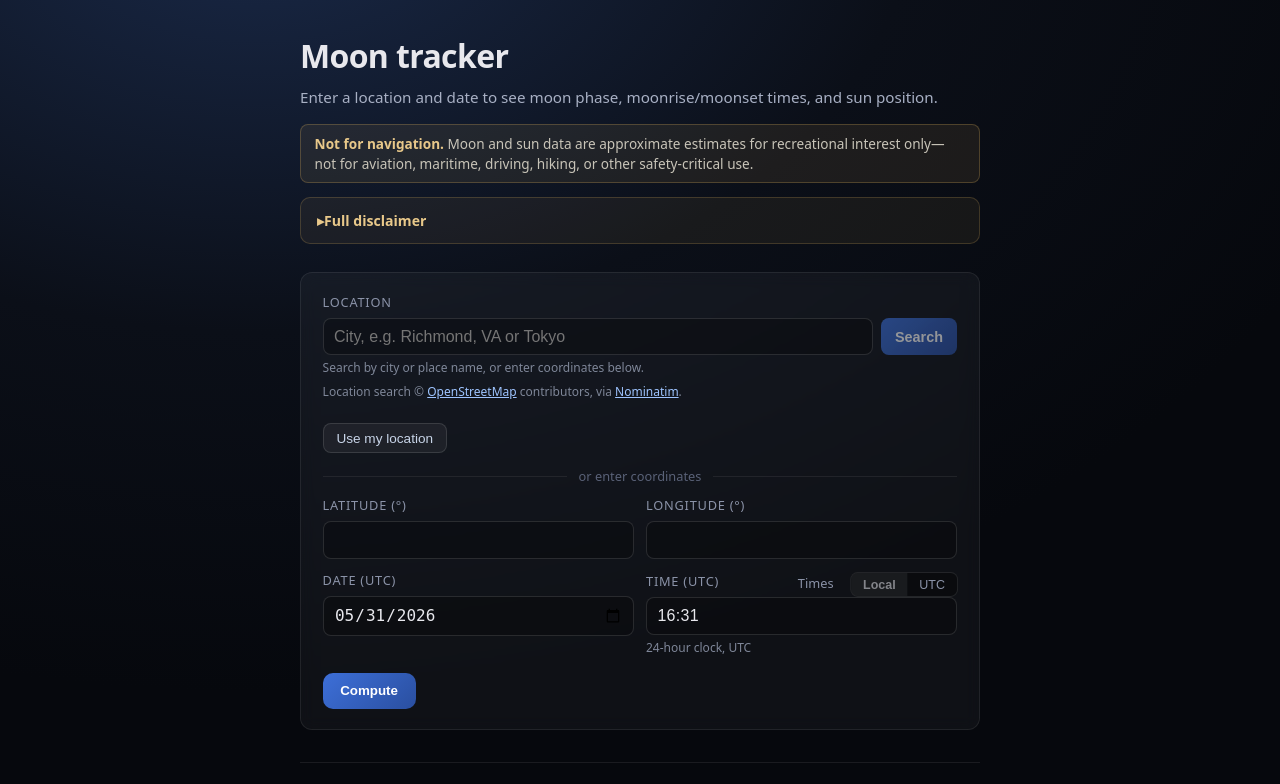
it: form validation and submit UX › shows an error when latitude or longitude is not numeric on submit
The width and height of the screenshot is (1280, 784).
In the field labelled "Latitude (°)": (478,540) x1=323 y1=521 x2=634 y2=559, type "not-a-number"
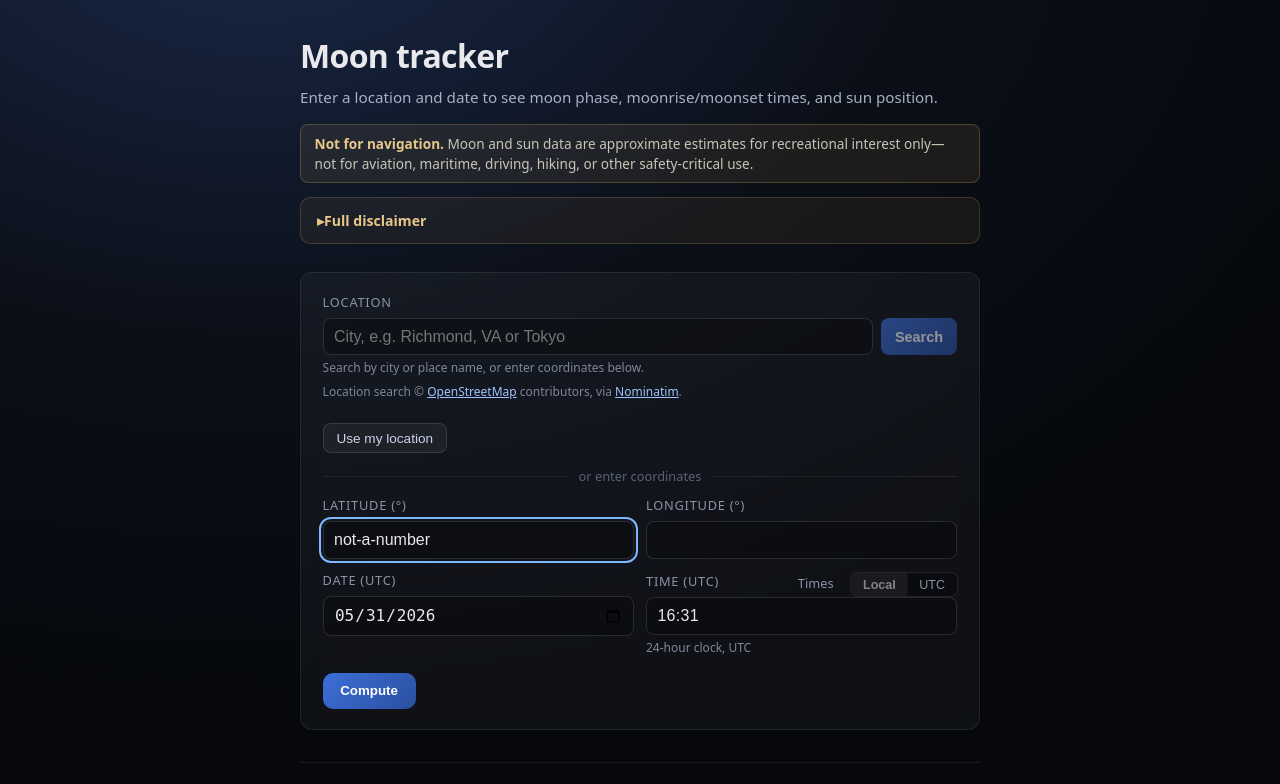
In the field labelled "Longitude (°)": (802,540) x1=646 y1=521 x2=957 y2=559, type "-122.3321"
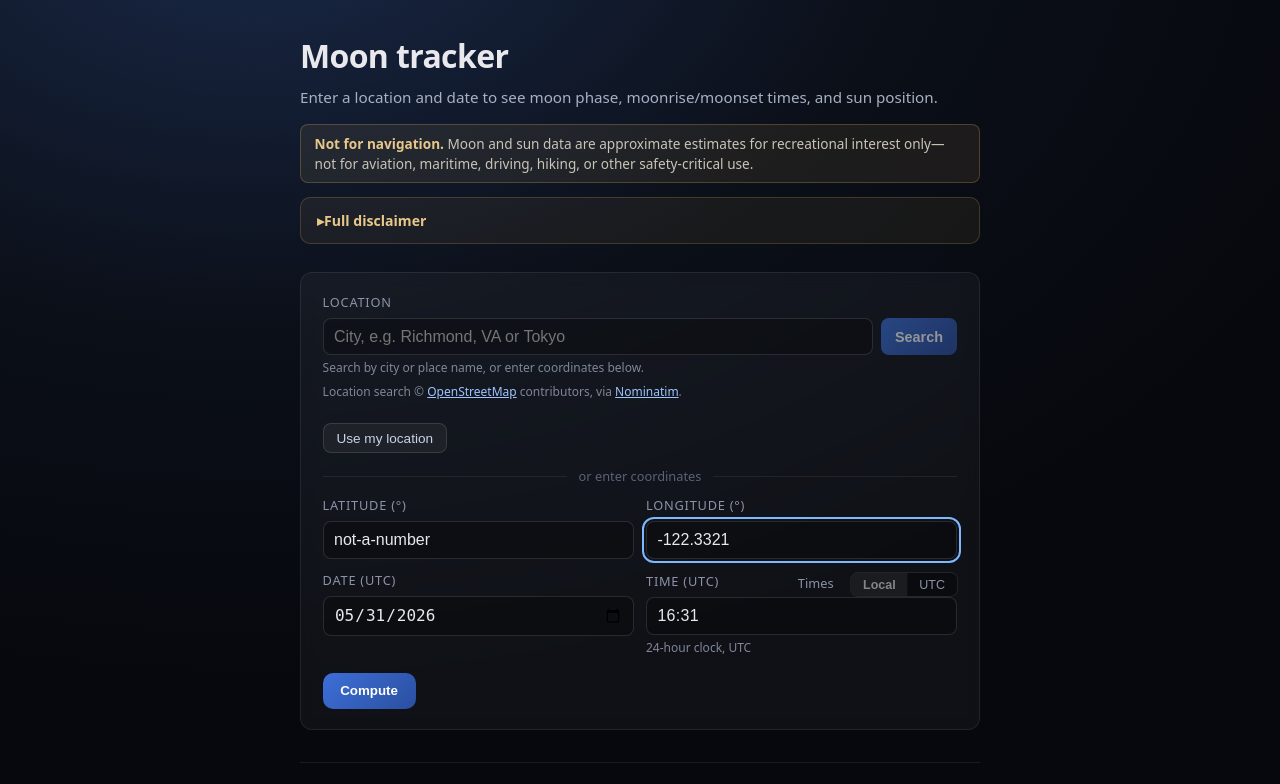
Click the button "Compute": (369,691) x1=323 y1=673 x2=416 y2=709
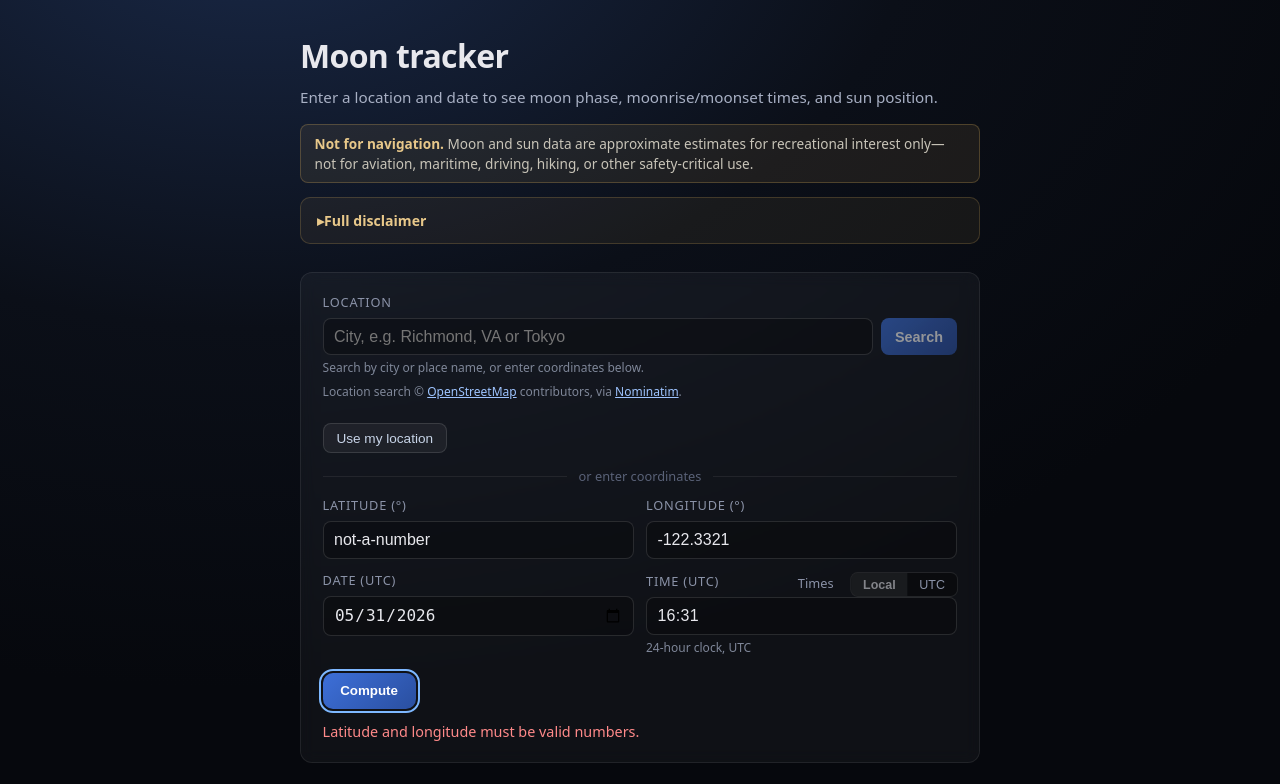
Expected: the message shows "Latitude and longitude must be valid numbers", x1=323 y1=722 x2=639 y2=741
